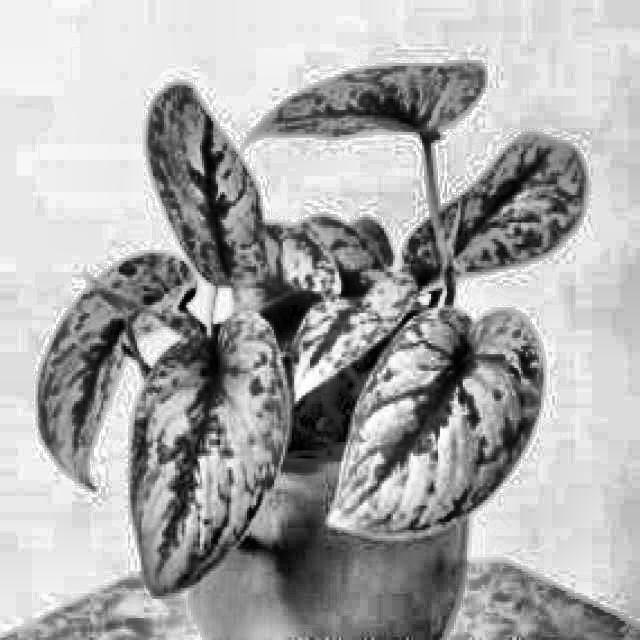plants: (99, 19, 488, 632)
